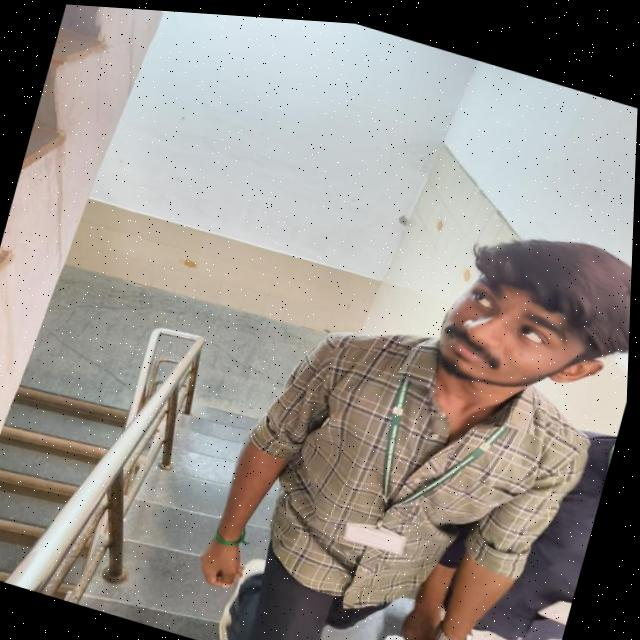id_card: (323, 336, 523, 578)
